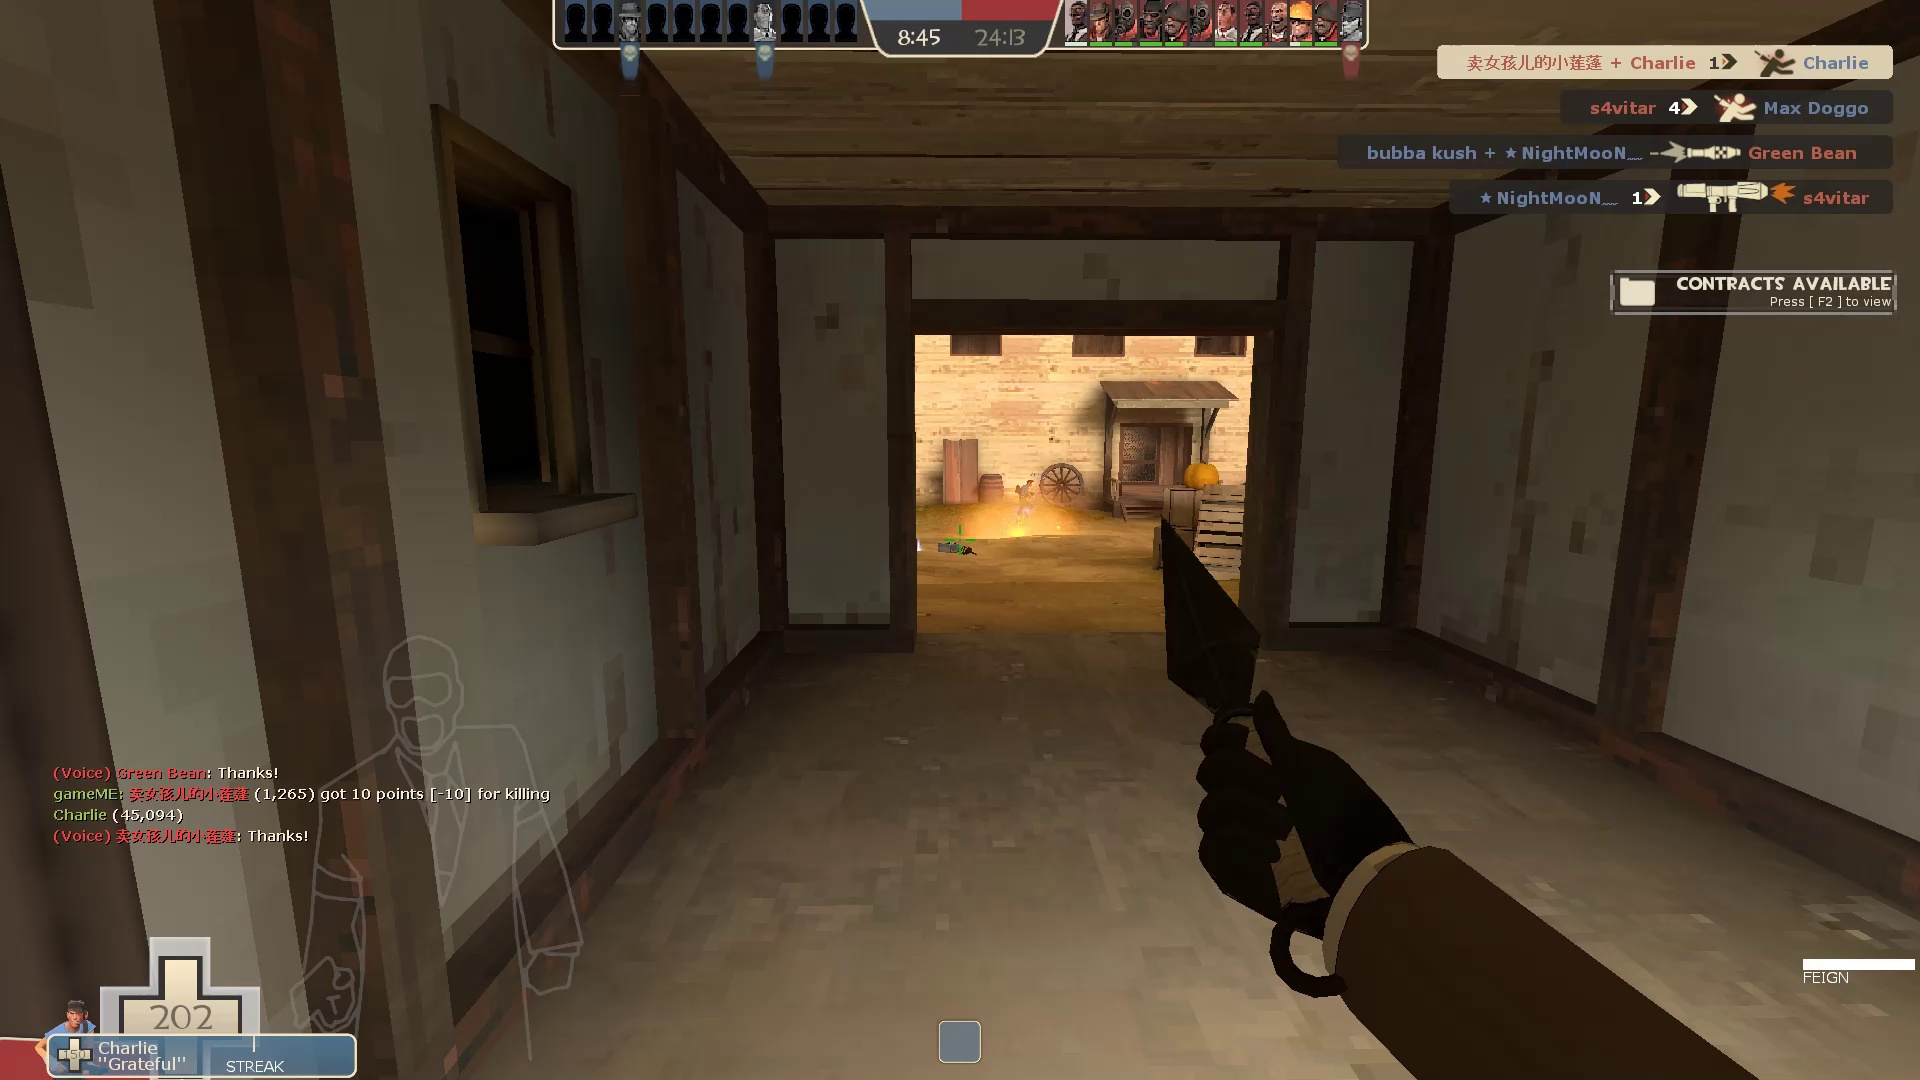blu_scout: (1011, 473, 1040, 529)
